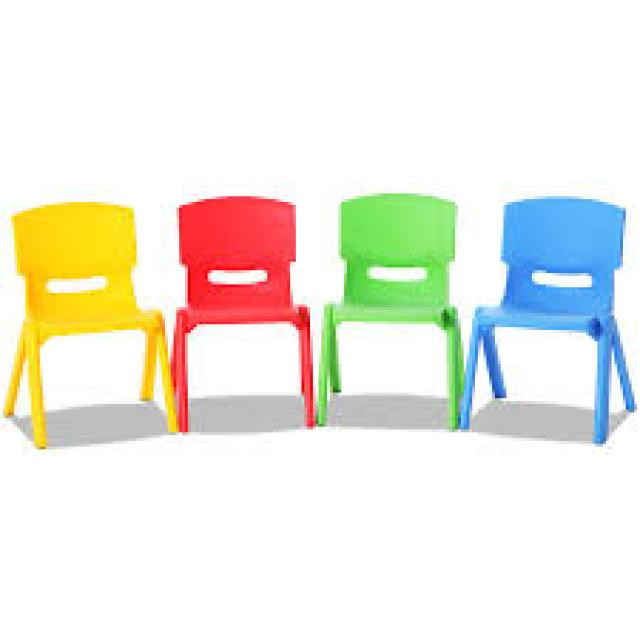chair: (0, 167, 175, 496), (466, 174, 640, 486), (156, 164, 320, 483), (308, 176, 467, 456)
